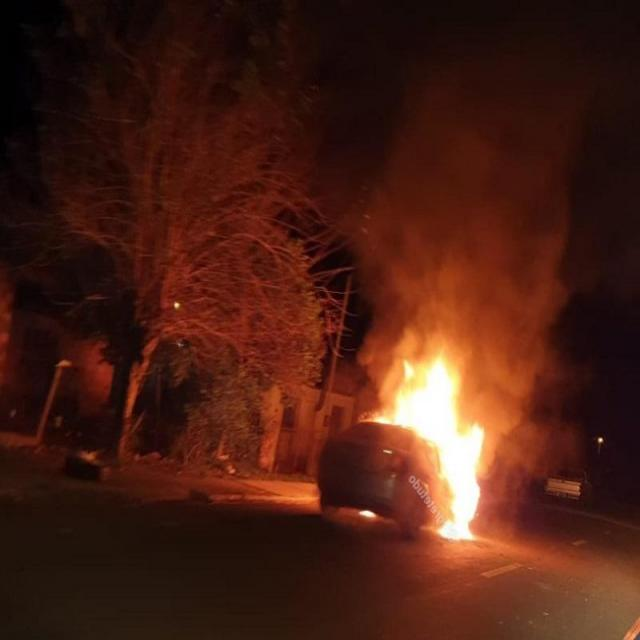fire: (366, 311, 479, 548)
